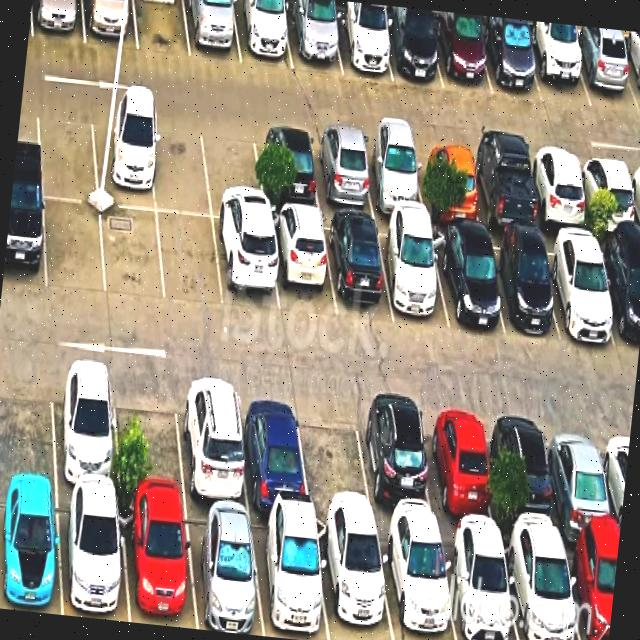empty: (297, 392, 374, 522), (113, 369, 186, 502), (0, 358, 55, 485), (200, 120, 265, 223), (157, 212, 223, 307), (149, 115, 211, 215), (101, 205, 164, 303), (36, 102, 98, 201), (44, 198, 105, 294), (133, 0, 190, 57)
occupied: (355, 398, 438, 528), (184, 505, 264, 636), (420, 402, 496, 535), (119, 498, 196, 629), (250, 512, 328, 640), (545, 413, 619, 543), (176, 376, 248, 509), (315, 518, 393, 640), (58, 490, 129, 622), (237, 384, 310, 512), (492, 407, 562, 539), (51, 361, 119, 494), (377, 527, 456, 640), (439, 530, 518, 640), (501, 535, 580, 640), (541, 234, 617, 343), (0, 485, 61, 615), (376, 221, 449, 329), (430, 229, 504, 335), (482, 233, 558, 335), (323, 215, 393, 319), (268, 211, 335, 317), (91, 108, 155, 210), (213, 220, 279, 313), (468, 146, 538, 232), (569, 31, 639, 112), (562, 539, 618, 640), (253, 126, 320, 210), (414, 141, 481, 224), (360, 135, 426, 216), (310, 131, 375, 213), (524, 27, 591, 106), (526, 150, 590, 231), (595, 238, 640, 352), (577, 154, 639, 236), (480, 19, 542, 100), (432, 15, 492, 94), (380, 14, 442, 88), (331, 9, 392, 81), (2, 190, 45, 289), (232, 0, 292, 69), (285, 4, 341, 73), (184, 0, 241, 63), (82, 0, 137, 49), (31, 0, 85, 43), (618, 38, 640, 111)
